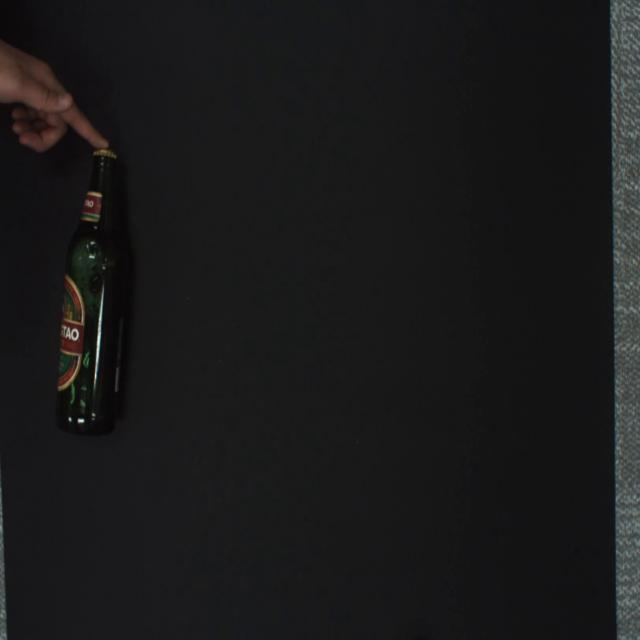beer-bottle: (55, 148, 129, 437)
